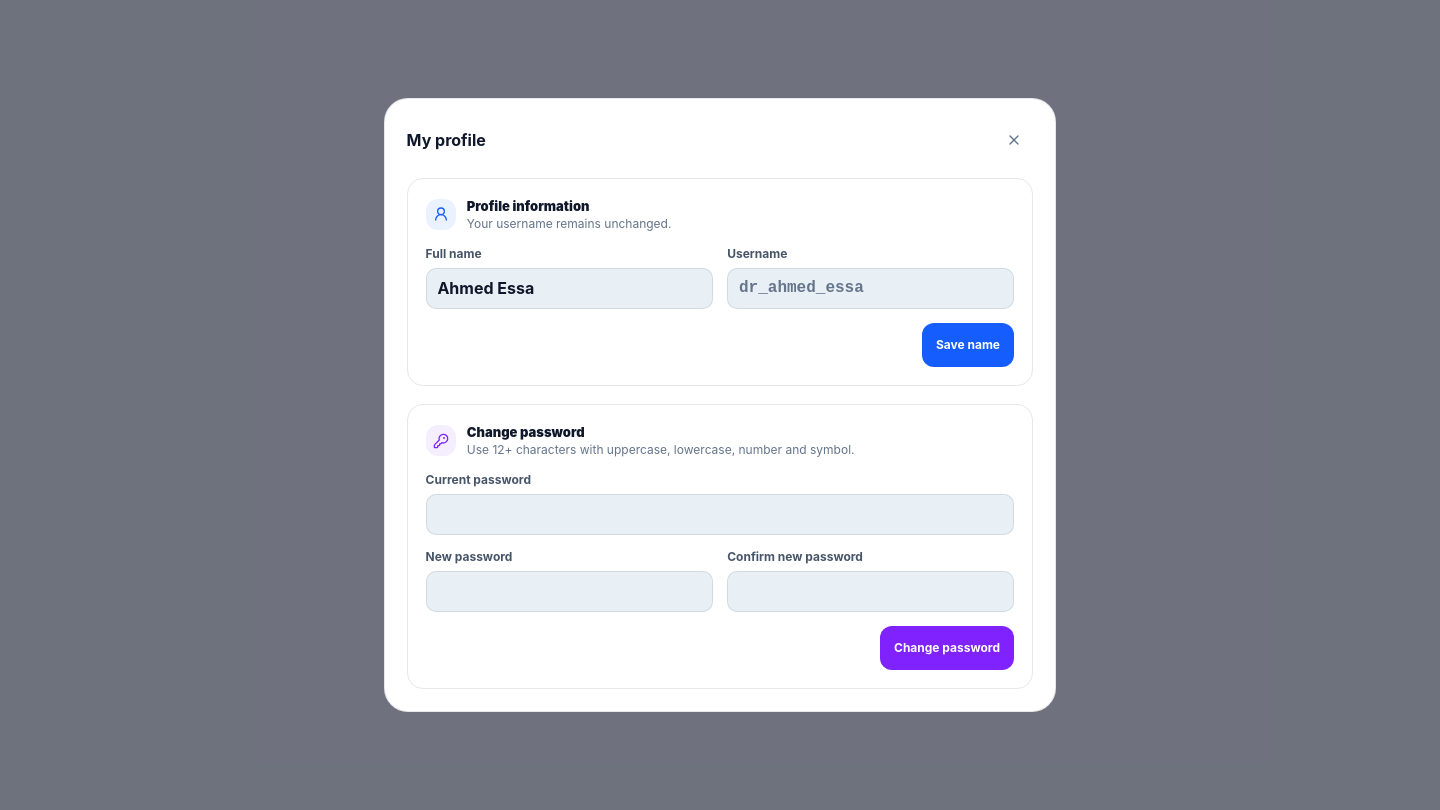
ProfileSettingsModal › updates the full name while keeping username read-only
Check: the field labelled "Username" holds "dr_ahmed_essa", box [727,268,1014,309]
Replace the text in the field labelled "Full name" with "Ahmed Mohamed Essa": (569, 288) [426,268,713,309]
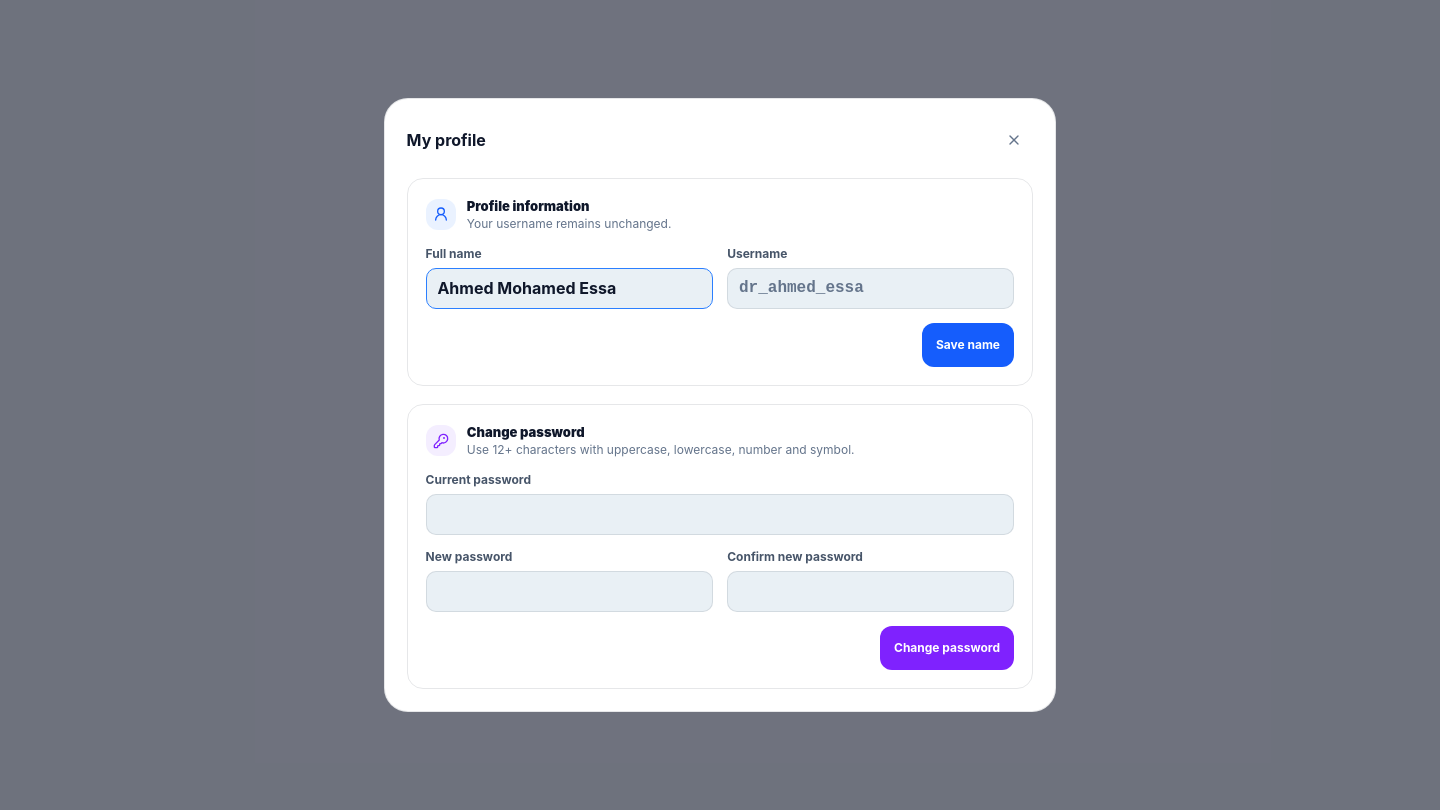
Click the button "Save name": (968, 345) [922,323,1014,367]
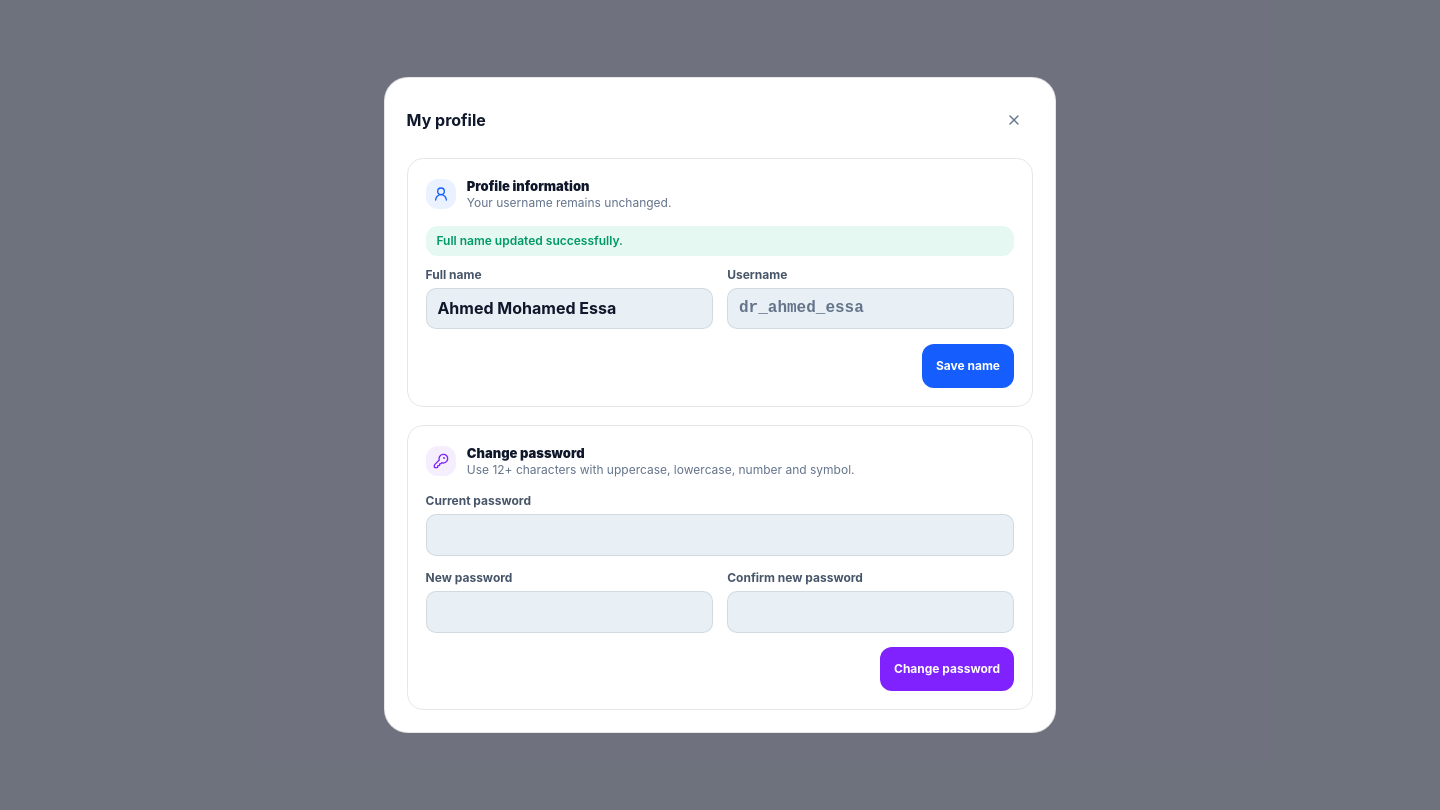
Check: the text "Full name updated successfully." is shown, box [426,226,1014,256]
